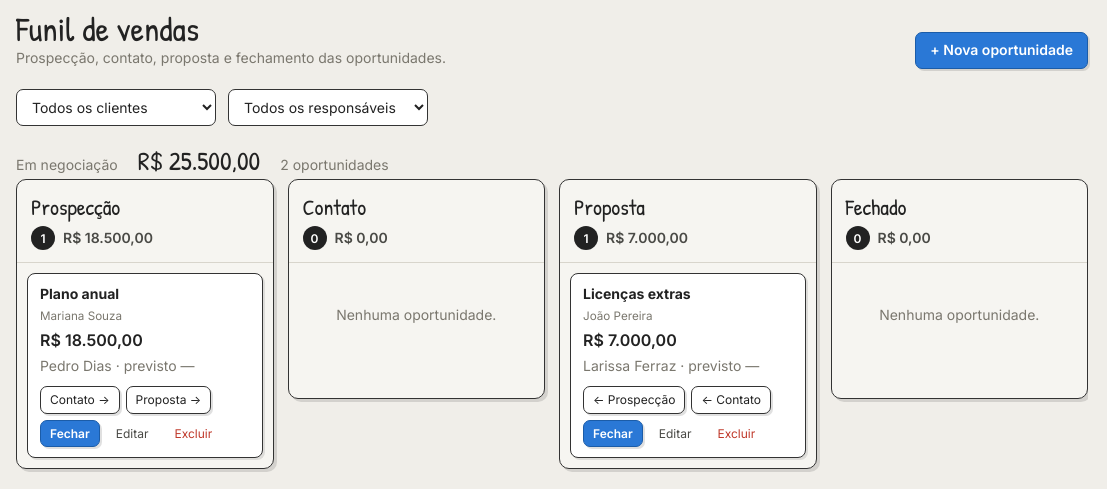
Test: OportunidadesApp (microfrontend) › filtra por responsável pedindo ao BFF
Expected: the text "Plano anual" is shown, [40, 285, 119, 302]
Select "Larissa Ferraz" in the dropdown named "Filtrar por responsável" at (328, 107), box [228, 89, 428, 126]
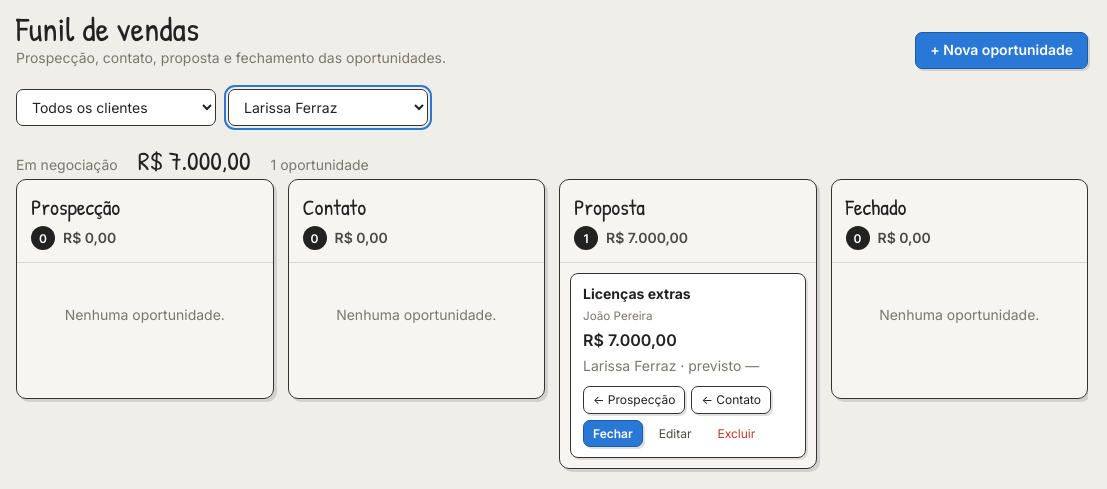
Expected: the text "Licenças extras" is shown, [583, 285, 691, 302]
Expected: the text "Plano anual" is gone
